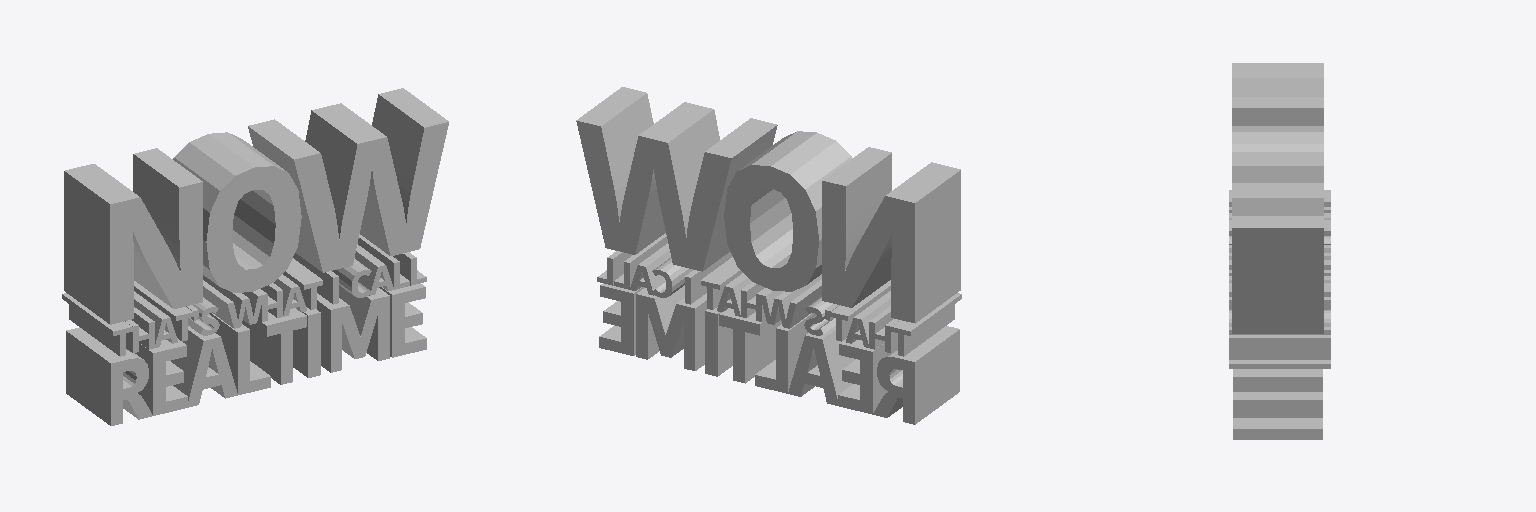
The model's file is now.obj.
3 renders of one model, left to right at view 1: azimuth 30°, elevation 25°; view 2: azimuth 150°, elevation 25°; view 3: azimuth 270°, elevation 25°, orthographic.
Visible parts, largest first — view 1: NTWICR; view 2: NTWICR; view 3: NTWICR.
Part boxes in pixels (bbox=[...]): NTWICR: bbox=[62, 88, 448, 425]; NTWICR: bbox=[576, 87, 961, 424]; NTWICR: bbox=[1229, 63, 1330, 439].
Bounding box in the file's own units: 5.01 × 3.16 × 1.31.